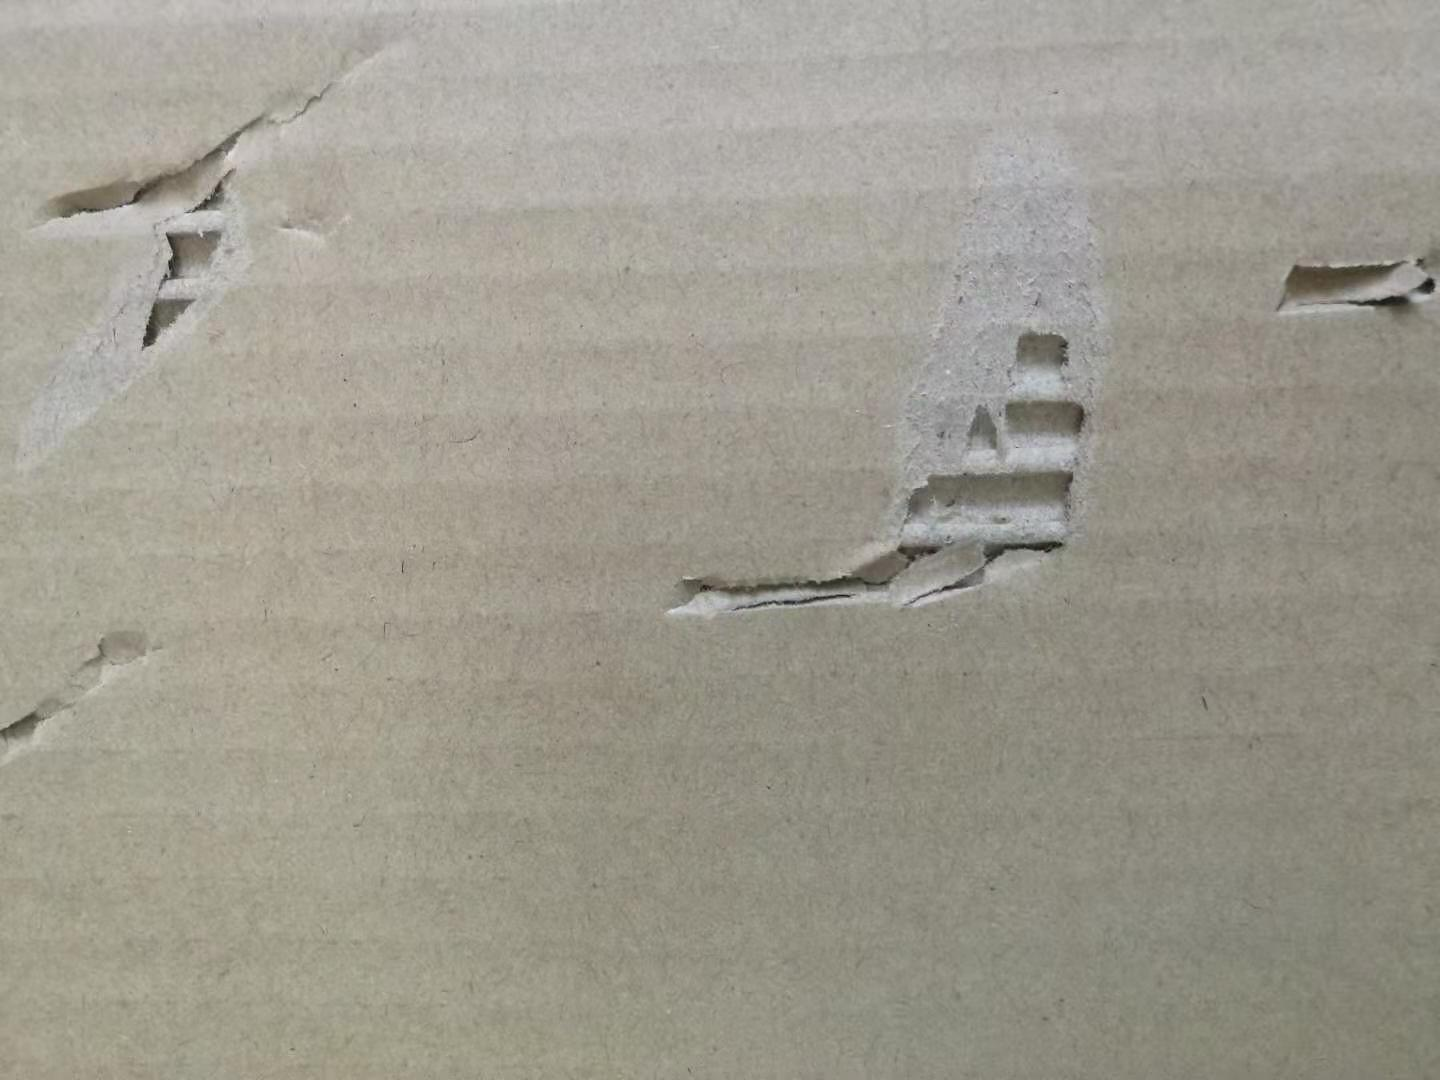defect: (626, 81, 1164, 663), (5, 15, 440, 492), (3, 597, 187, 788), (1250, 199, 1440, 360)
